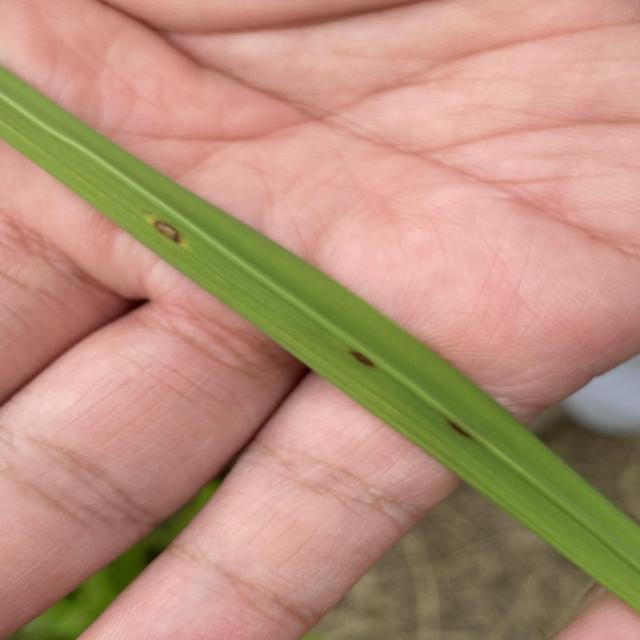Dom nau: (146, 213, 183, 252), (440, 413, 478, 443), (346, 348, 377, 371)
